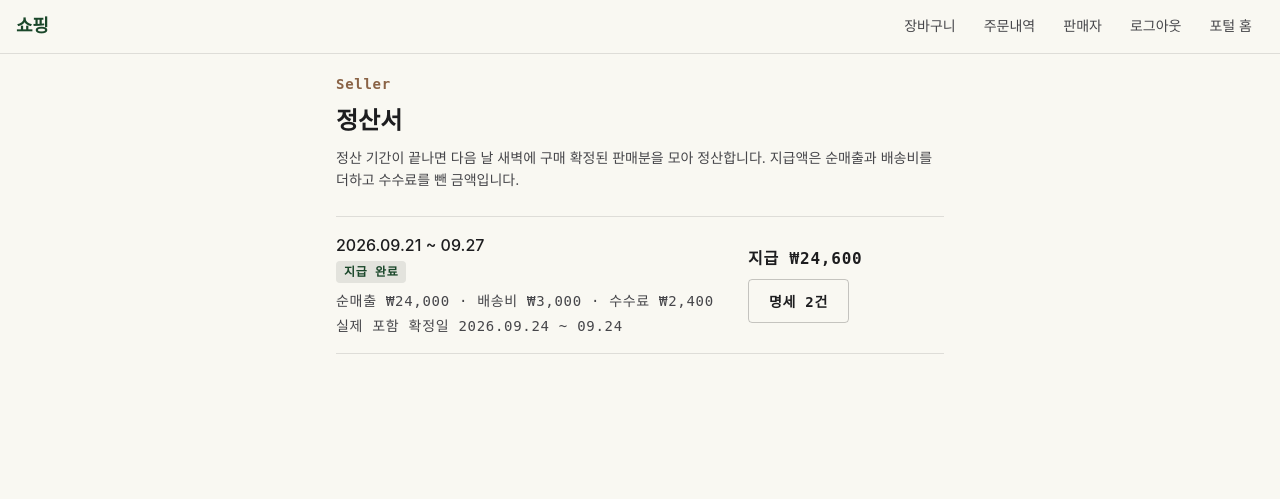
판매자 정산서 › 명세를 열면 그 정산서를 불러와 라인·배송비 줄을 보인다
This screenshot has width=1280, height=499.
Step 1. Click the button "명세 2건" → (798, 301), box [748, 279, 849, 323]
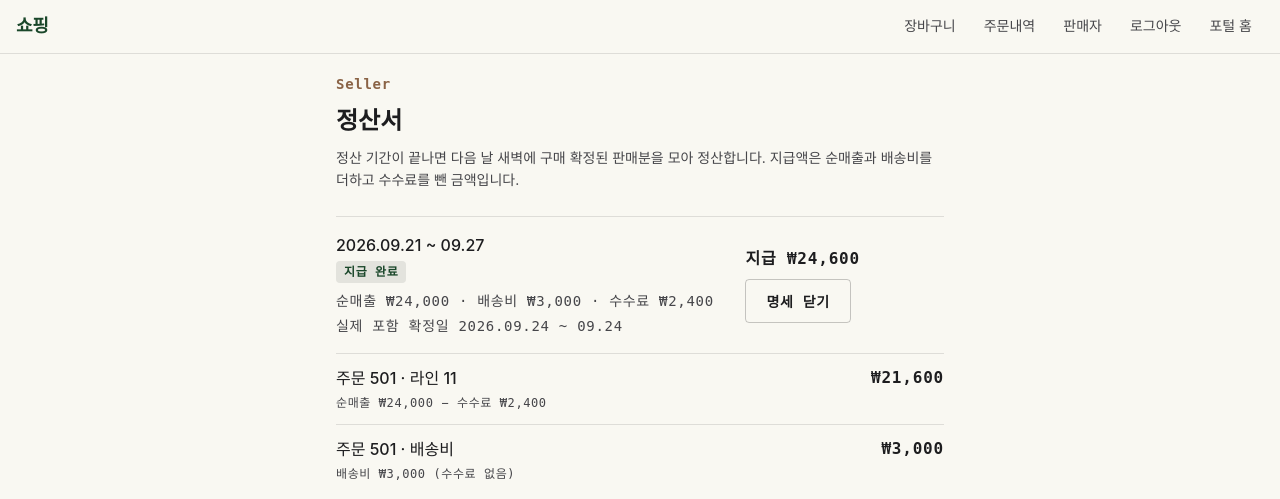
Now the text "주문 501 · 라인 11" is shown, box [336, 368, 457, 388]
Now the text "순매출 ₩24,000 − 수수료 ₩2,400" is shown, box [336, 394, 547, 412]
Now the text "주문 501 · 배송비" is shown, box [336, 439, 454, 459]
